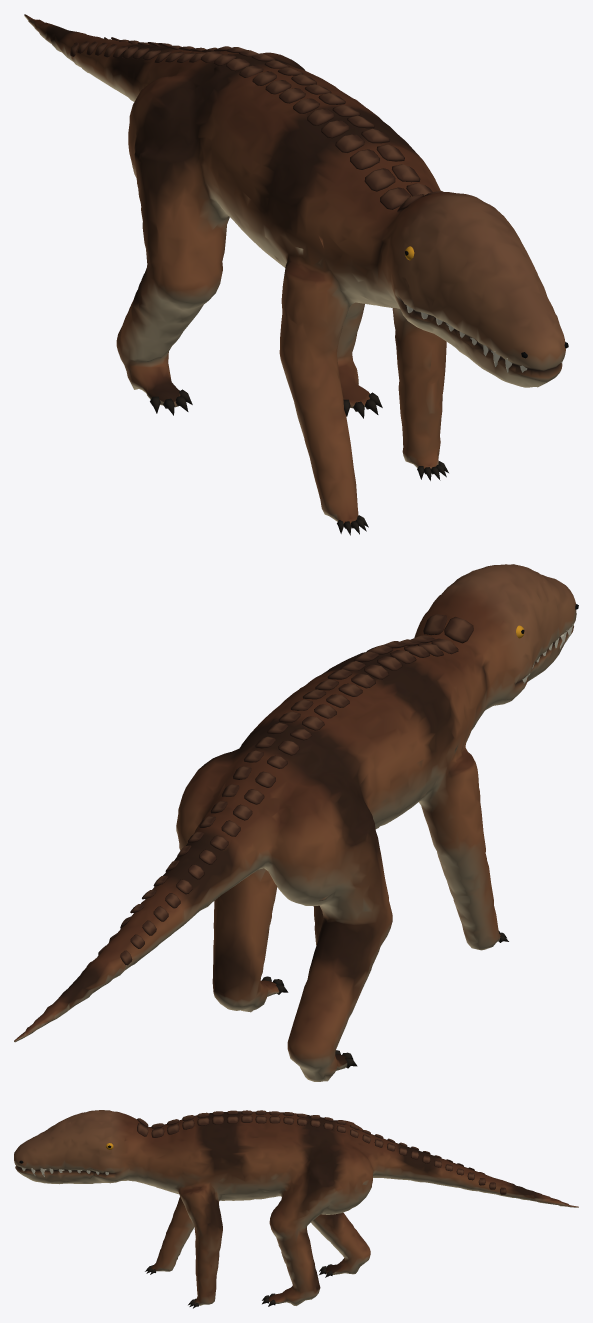
Rendered from Smok.fbx.
3 renders of one model, top to bottom at view 1: azimuth 30°, elevation 25°; view 2: azimuth 150°, elevation 25°; view 3: azimuth 270°, elevation 25°, orthographic. The views are drawn at different scales.
Parts seen in each view (by area): view 1: Smok; view 2: Smok; view 3: Smok.
Boxes of the visible parts, x1,y1,x2,y2 form: Smok: [24, 14, 568, 535]; Smok: [14, 564, 578, 1081]; Smok: [14, 1110, 578, 1308].
Bounding box in the file's own units: 0.4195 × 0.6917 × 1.99.
